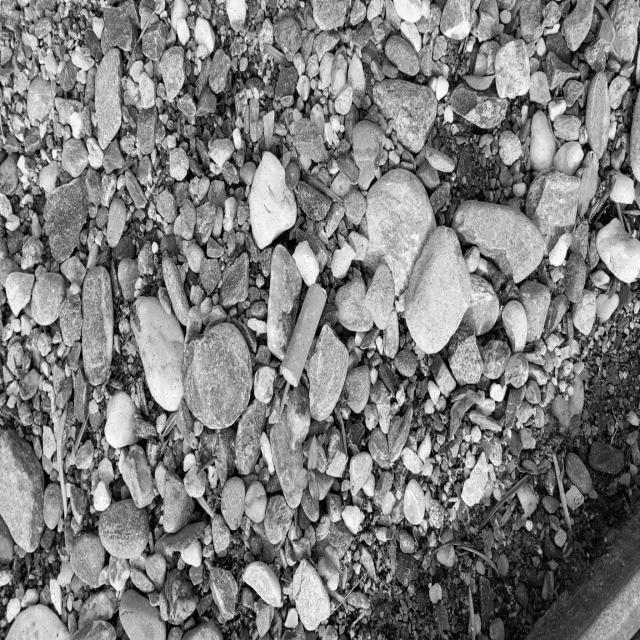other waste: (280, 280, 328, 390)
